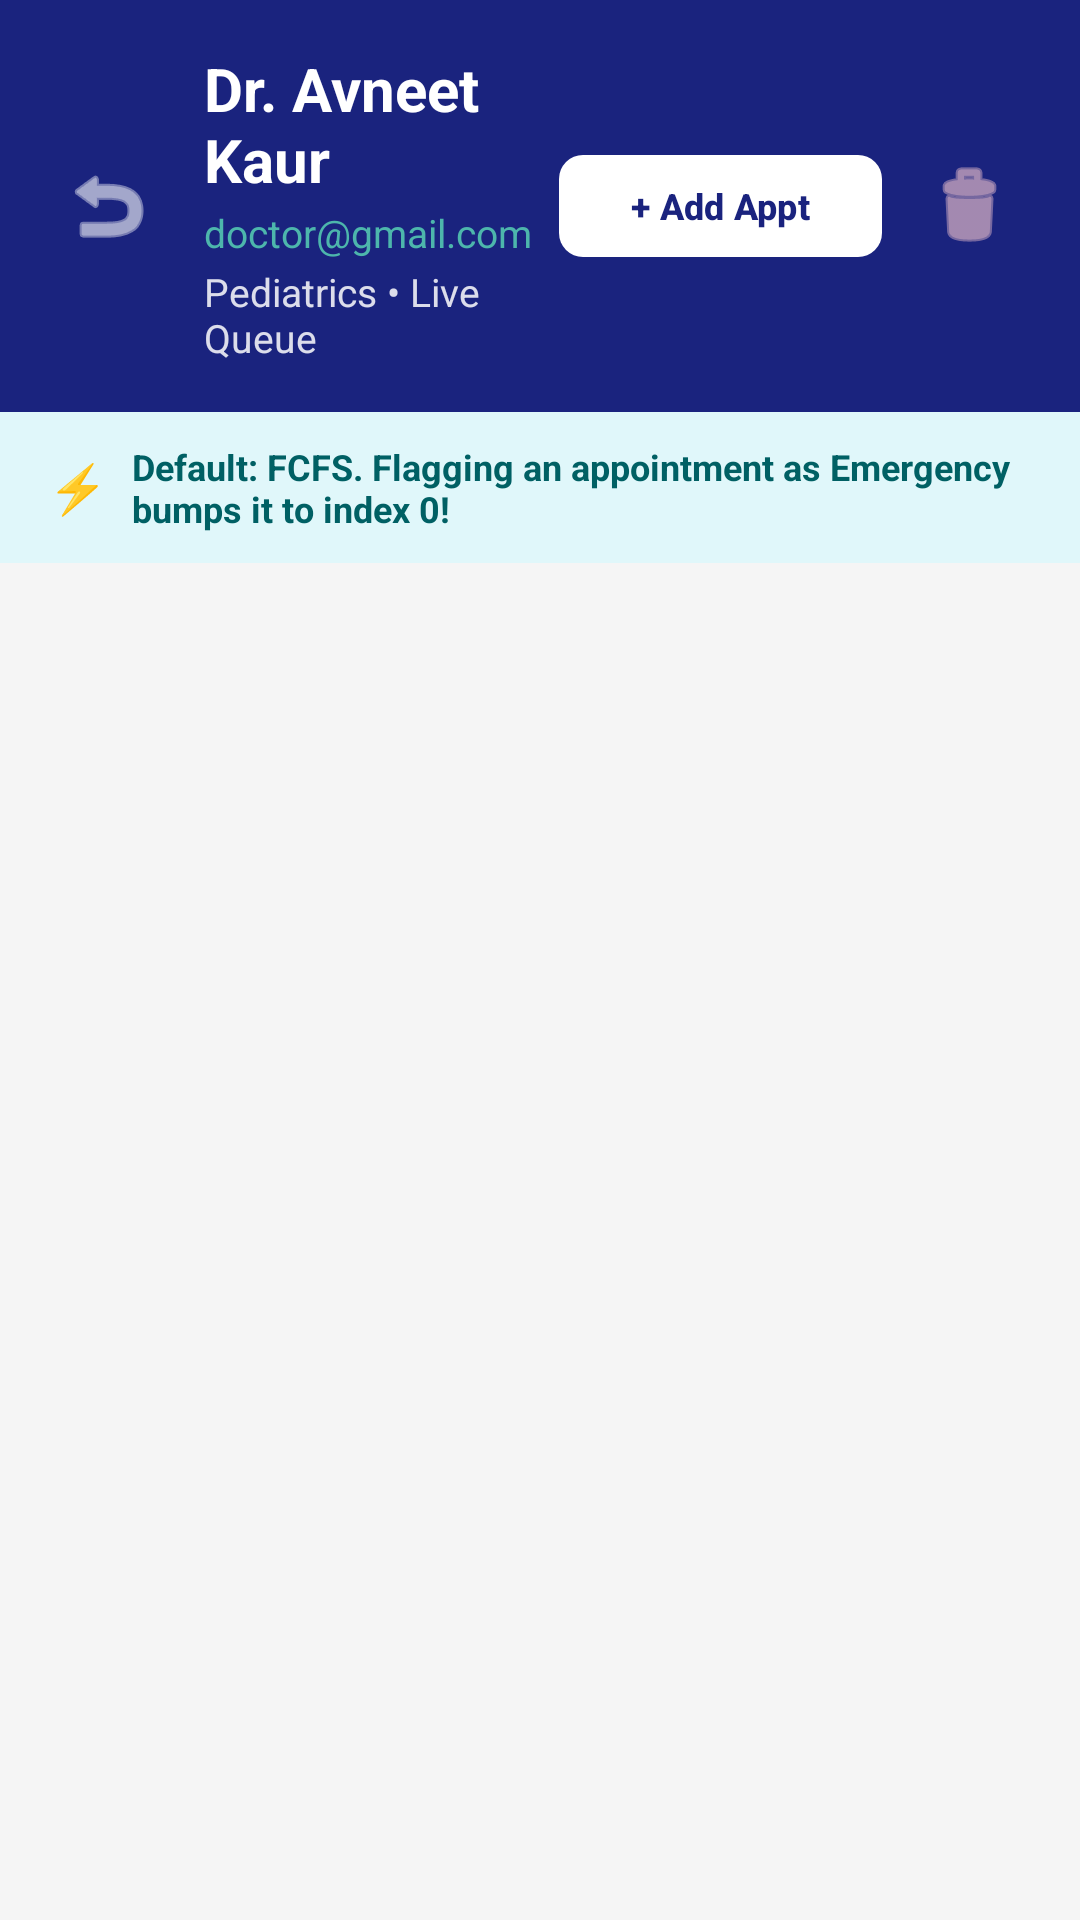

Locate icon controls on the screen. Image size 1080w x 1920h, boxes as (x1, y1, x2, y2).
Back: (75, 175, 144, 238)
Delete Doctor Account: (942, 167, 997, 242)
